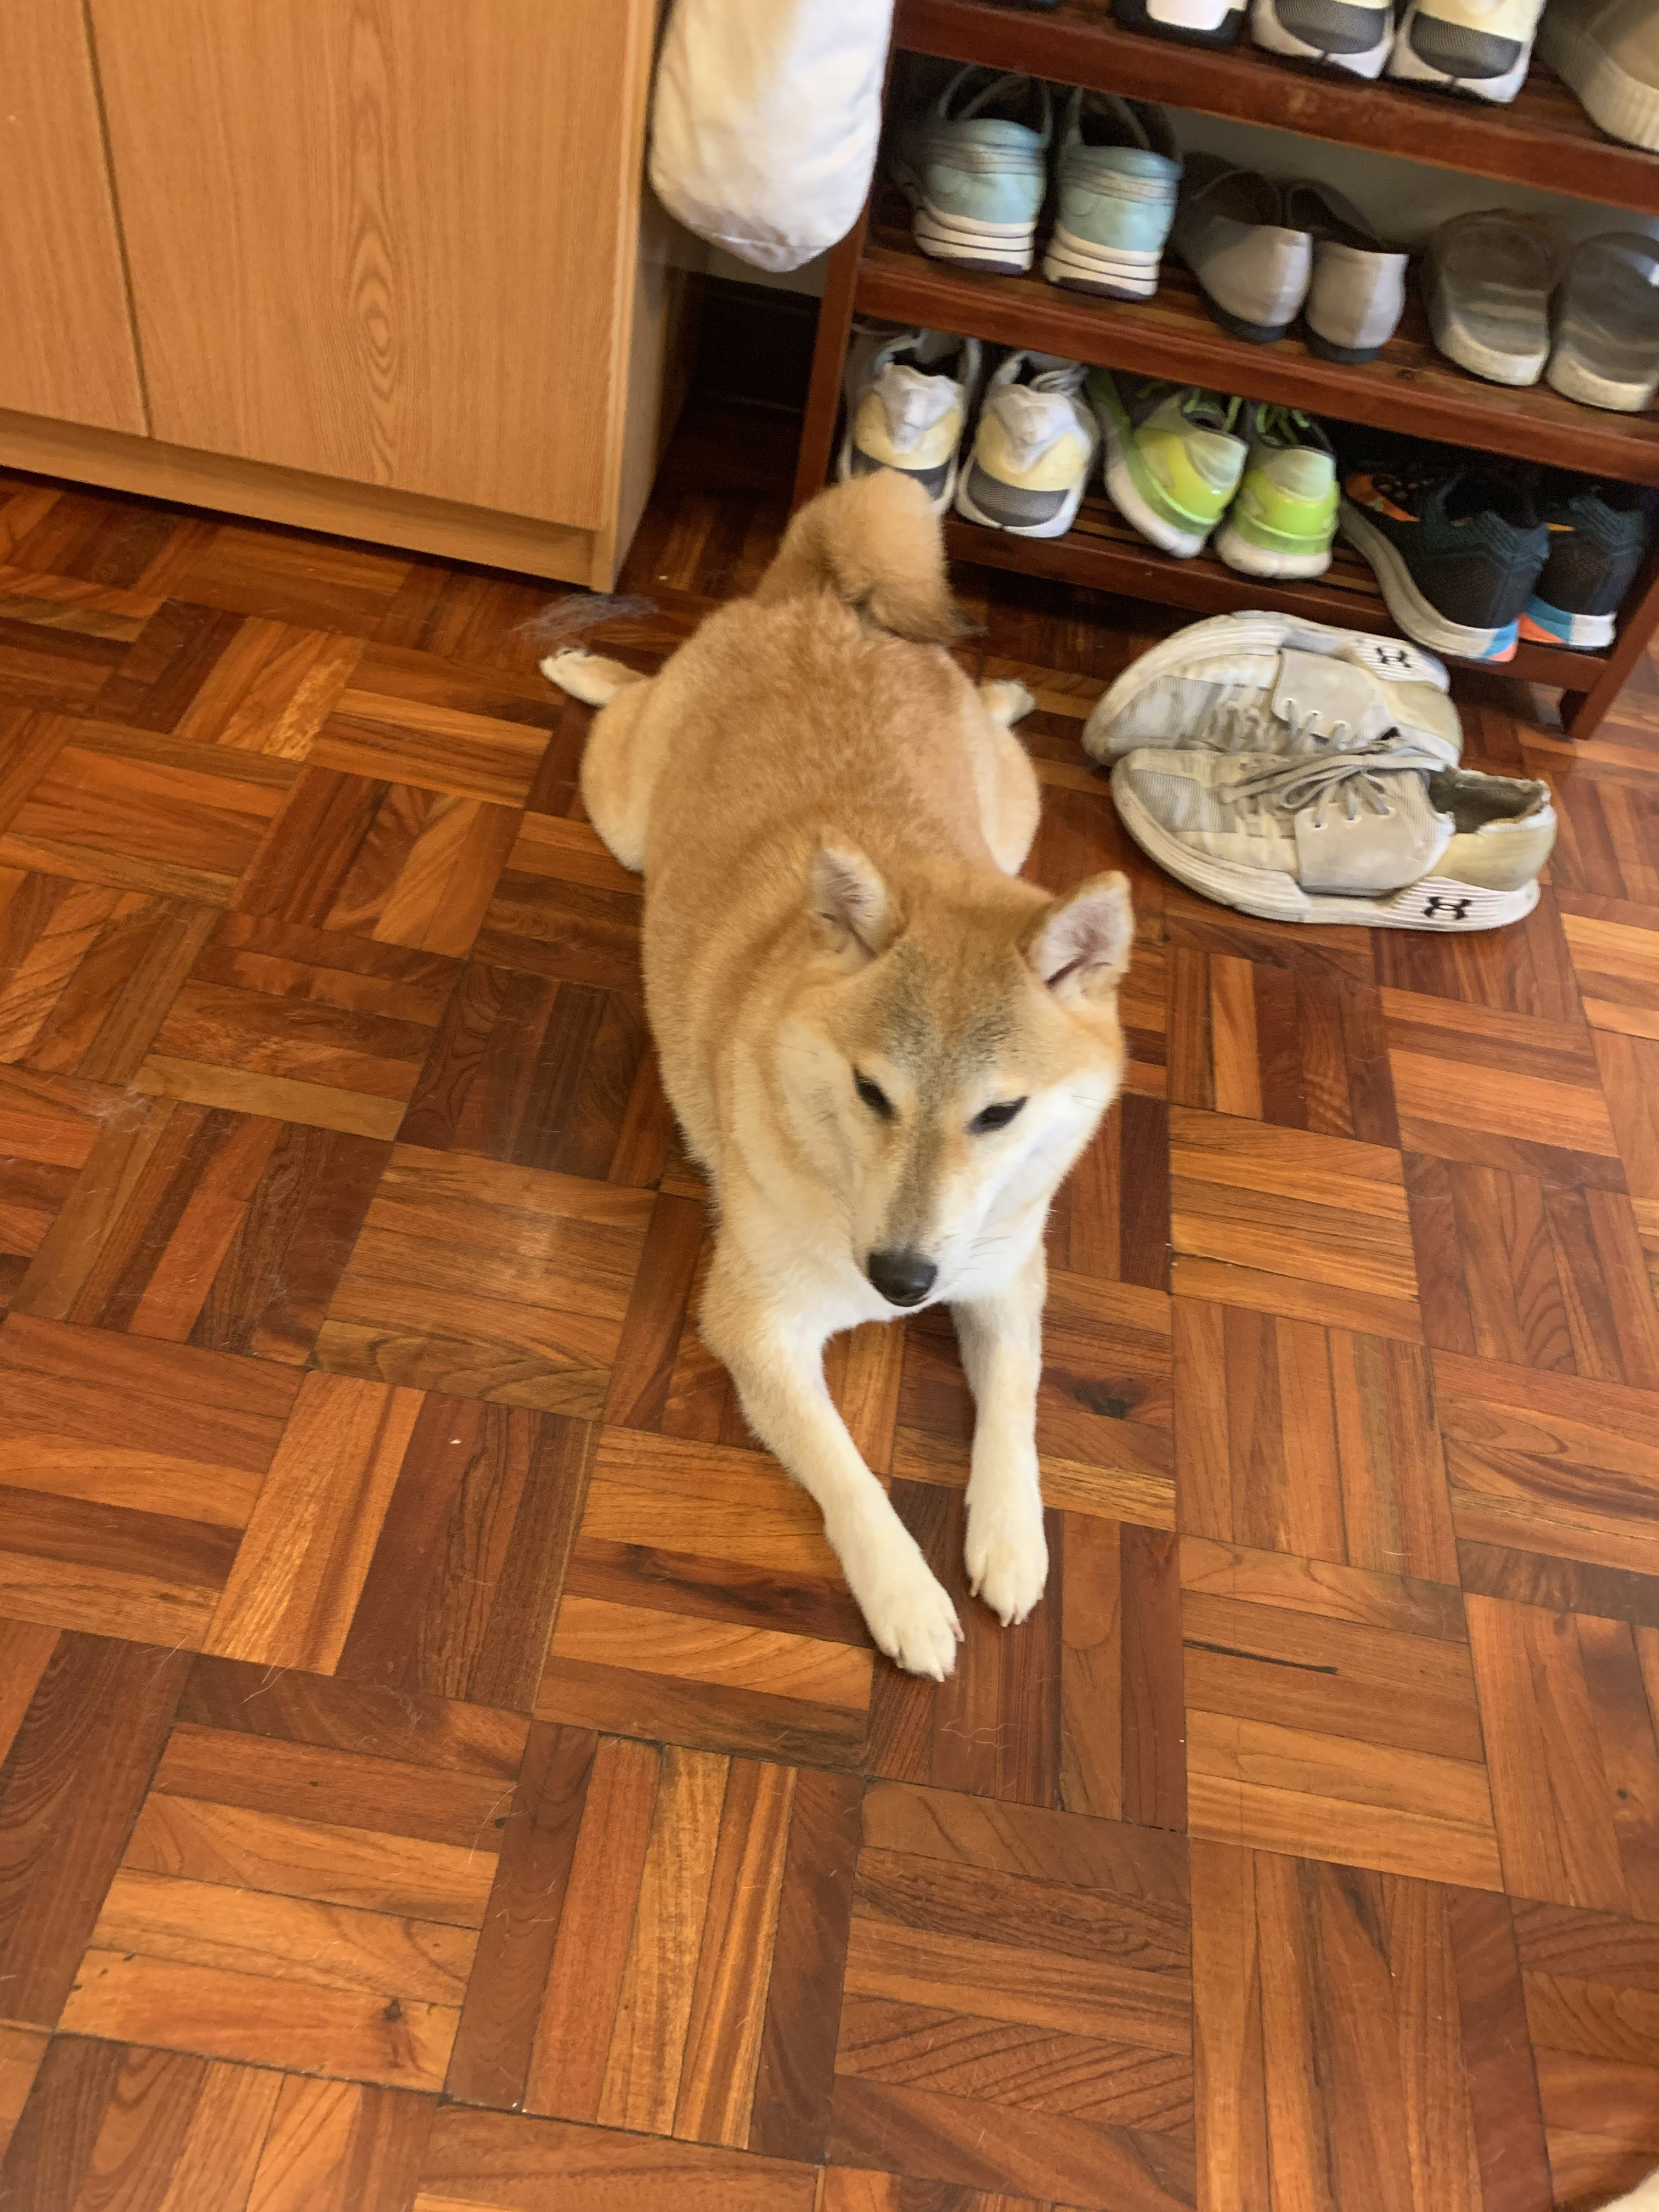Get down: (533, 434, 1152, 1712)
